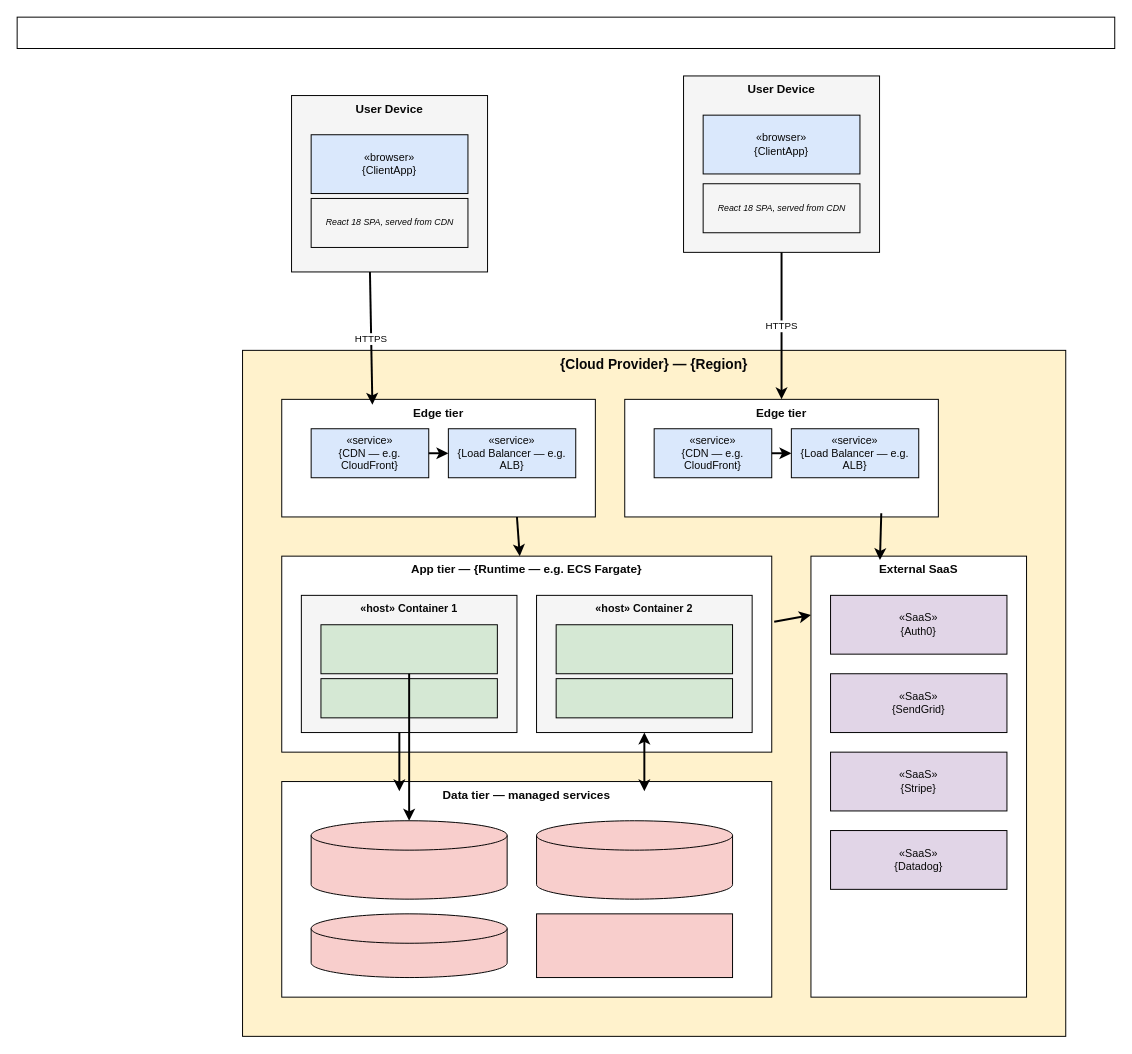
Image size: 1132x1054. Some labels were removed from this diagram. Here are the shapes that lost their labels. From the top down, the centre of each, then its label:
At pixel 565 32: "{SystemName} — Deployment Topology".
At pixel 408 649: "«process» API service".
At pixel 644 649: "«process» API service (replica)".
At pixel 408 698: "«process» Worker / background jobs".
At pixel 644 698: "«process» Worker (replica)".
At pixel 408 859: "«database» {Primary DB — e.g. RDS Postgres Multi-AZ}".
At pixel 634 859: "«database» {Read replica}".
At pixel 408 945: "«cache» {Redis — e.g. ElastiCache}".
At pixel 634 945: "«message bus» {Queue — e.g. SQS / Kafka}".
